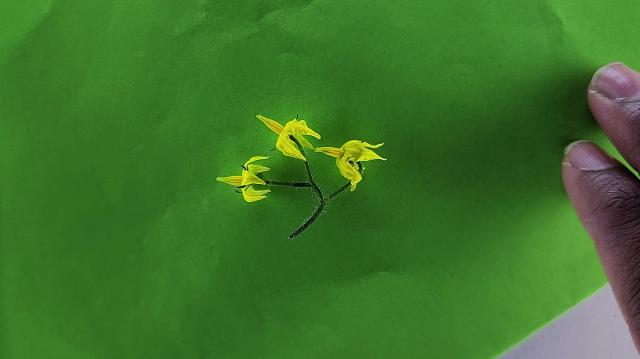Anthesis: (314, 139, 389, 191), (256, 113, 322, 164), (215, 156, 274, 203)
